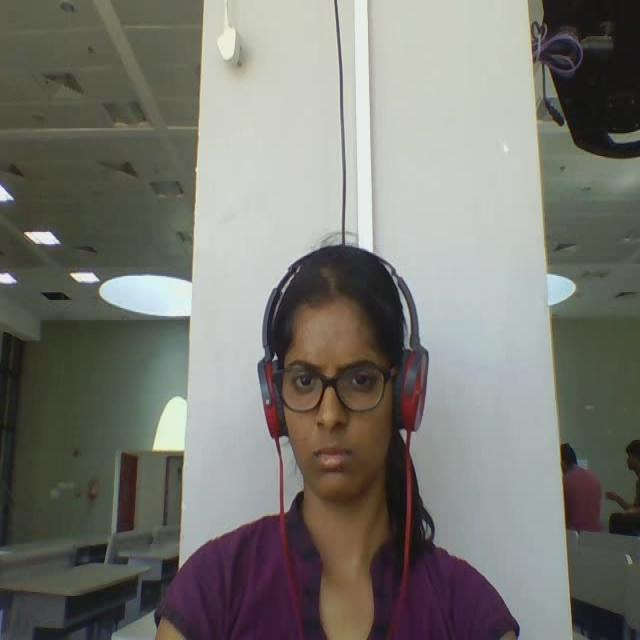Engaged: (235, 238, 446, 544)
